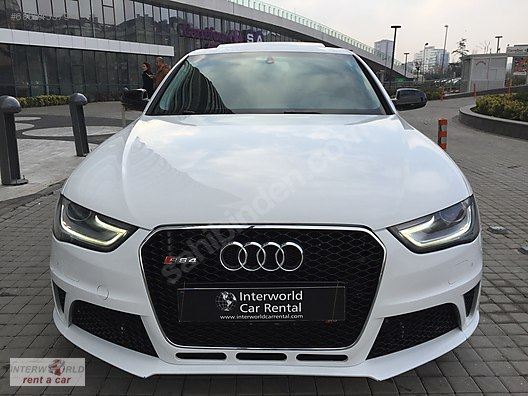audi: (210, 237, 311, 277)
